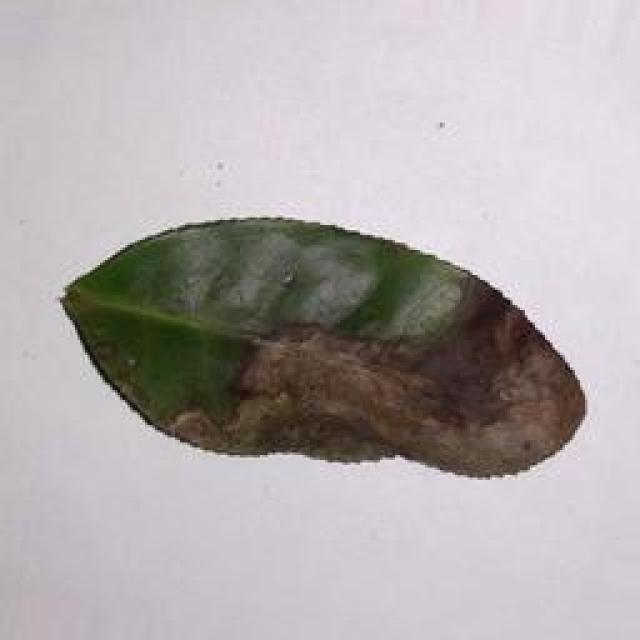Brown Blight: (53, 208, 602, 498)
